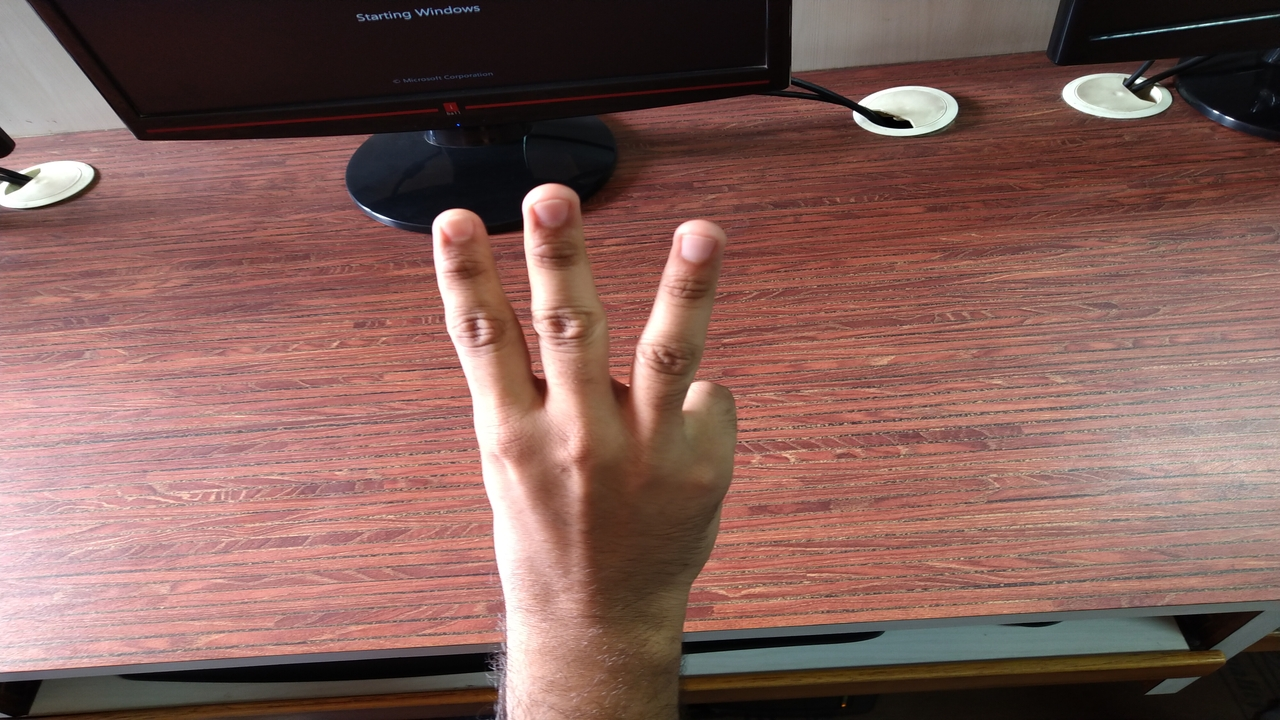fingertip: (514, 172, 588, 240), (660, 210, 736, 274), (426, 204, 488, 264)
